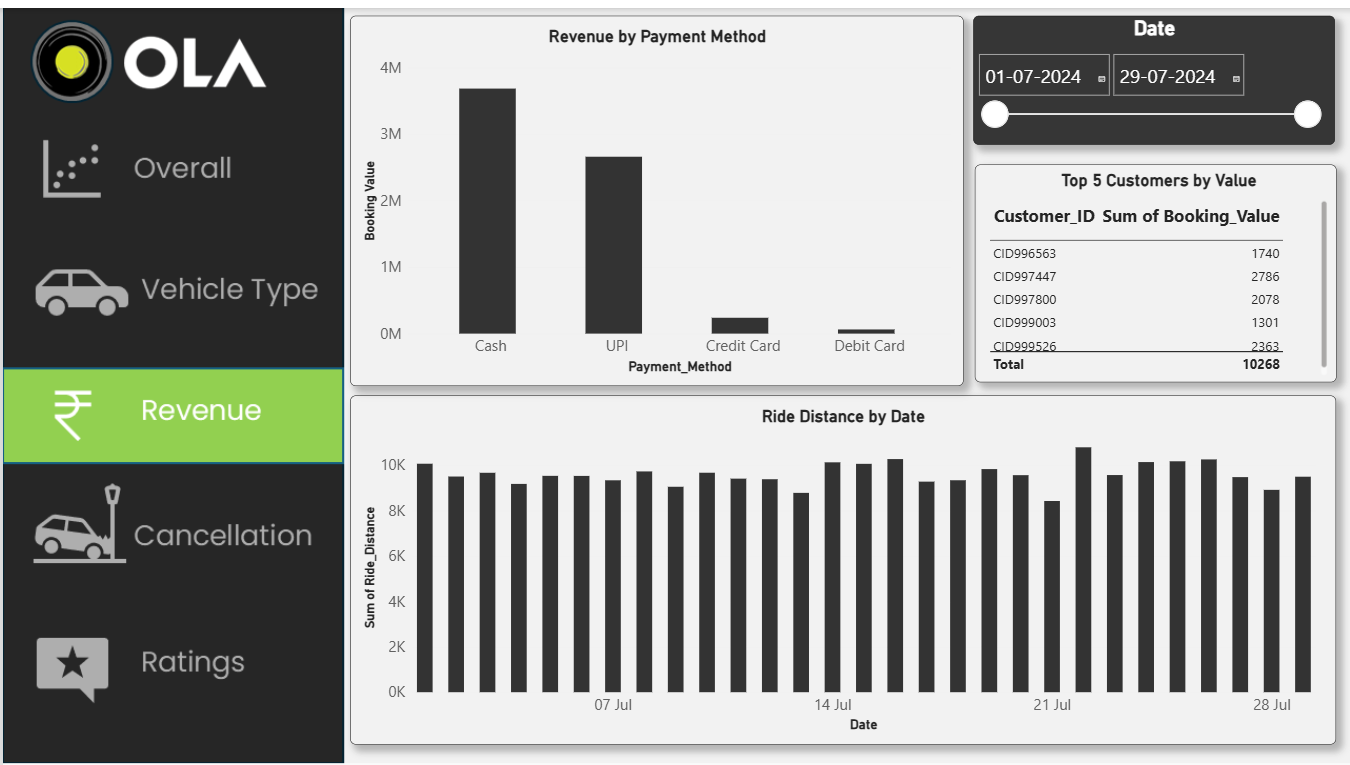

Layout of this report page (visuals, bound fields, positions):
{"tool":"powerbi","page":{"name":"Revenue","canvas":[1920,1080],"ordinal":2},"visuals":[{"type":"actionButton","box":[0,161.2,486,133.5],"z":0},{"type":"actionButton","box":[0,347.5,486,133.5],"z":1000},{"type":"actionButton","box":[10.1,679.9,486,133.5],"z":2000},{"type":"actionButton","box":[10.1,873.9,486,133.5],"z":3000},{"type":"columnChart","title":"Revenue by Payment Method","fields":{"Category":["bookings (2).Payment_Method"],"Y":["Sum(bookings (2).Booking_Value)"]},"box":[494.5,12.1,874.4,527.7],"z":4000},{"type":"columnChart","title":"Ride Distance by Date","fields":{"Category":["bookings (2).Date"],"Y":["Sum(bookings (2).Ride_Distance)"]},"box":[494.5,551.8,1405.1,497.5],"z":5000},{"type":"slicer","title":"Date","fields":{"Values":["bookings (2).Date"]},"box":[1384,12.1,515.6,183.9],"z":6000},{"type":"tableEx","title":"Top 5 Customers by Value","fields":{"Values":["bookings (2).Customer_ID","Sum(bookings (2).Booking_Value)"]},"box":[1385,224,515.6,310.6],"z":7000}]}

Visuals, with their boxes in screenshot pixels (x1, y1, x2, y2), scaled from the page's 1920x1080 canvas onto the 1350x765 screenshot:
actionButton: bbox(0, 114, 342, 209)
actionButton: bbox(0, 246, 342, 341)
actionButton: bbox(7, 482, 349, 576)
actionButton: bbox(7, 619, 349, 714)
"Revenue by Payment Method" columnChart: bbox(348, 9, 963, 382)
"Ride Distance by Date" columnChart: bbox(348, 391, 1336, 743)
"Date" slicer: bbox(973, 9, 1336, 139)
"Top 5 Customers by Value" tableEx: bbox(974, 159, 1336, 379)
